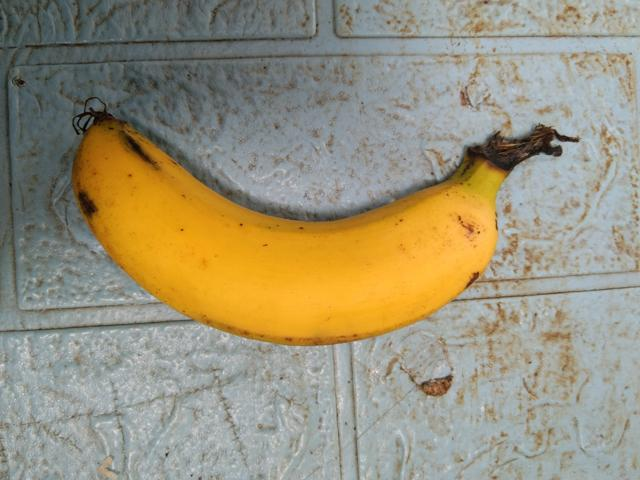freshripe: (70, 99, 511, 360)
